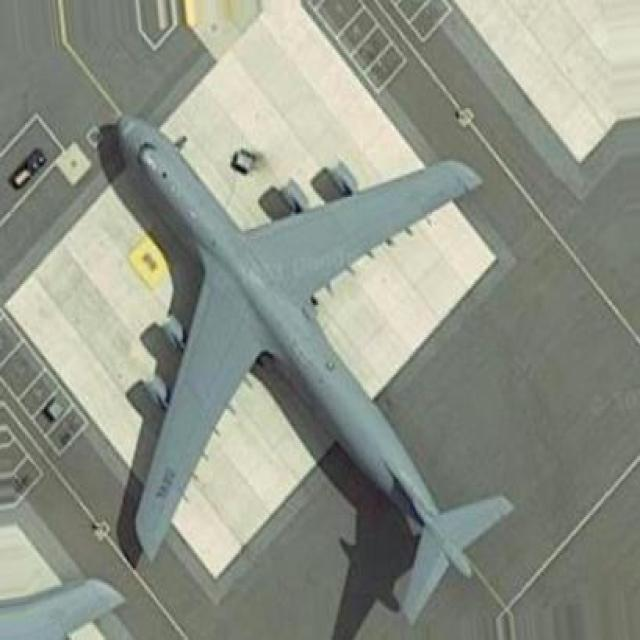C-5_TopDown: (102, 106, 512, 638)
